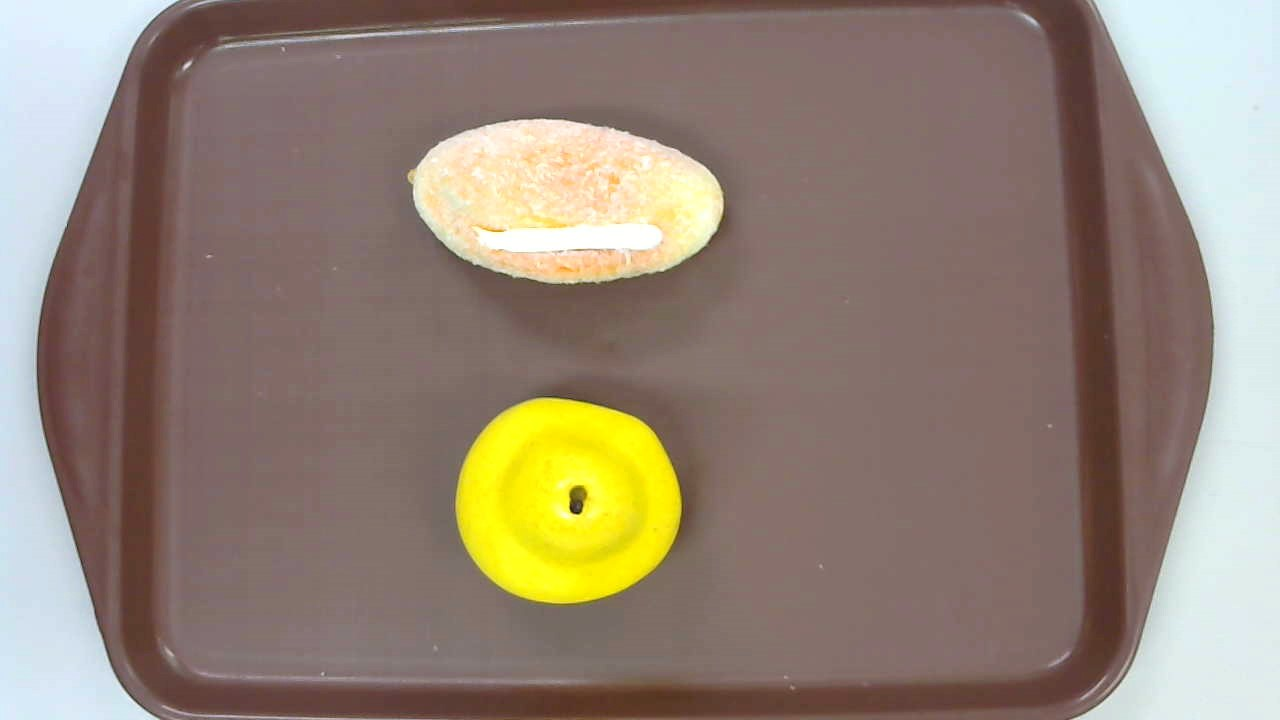coconut: (404, 119, 725, 285)
yellow pear: (454, 396, 683, 604)
